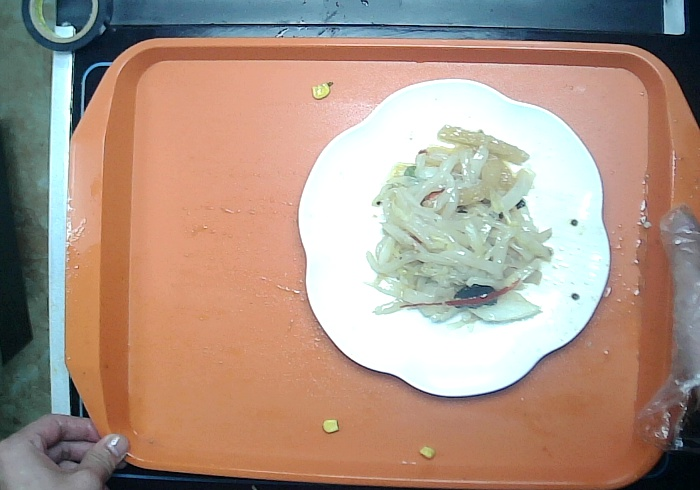HZYJPL-Bai_Se_Hua_Duo_Wan: (290, 73, 620, 409)
